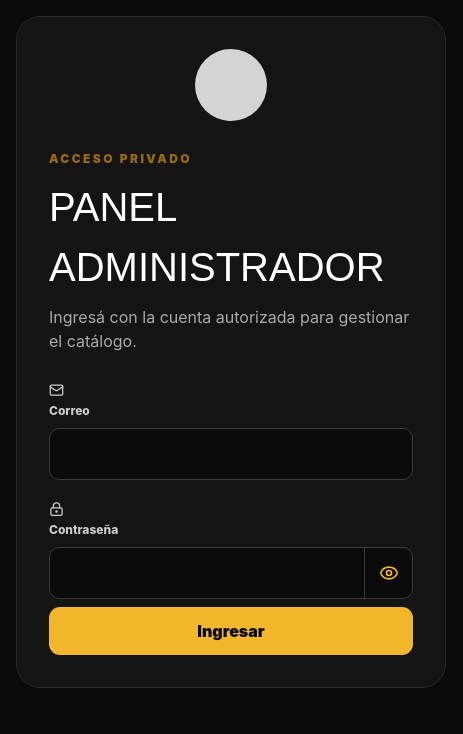
Test: Admin login errors › shows an error when the email or password is wrong
The image size is (463, 734).
Type "nadie@mail.com" into the field labelled "Correo" at (231, 454), box top-left (49, 428), bottom-right (413, 480)
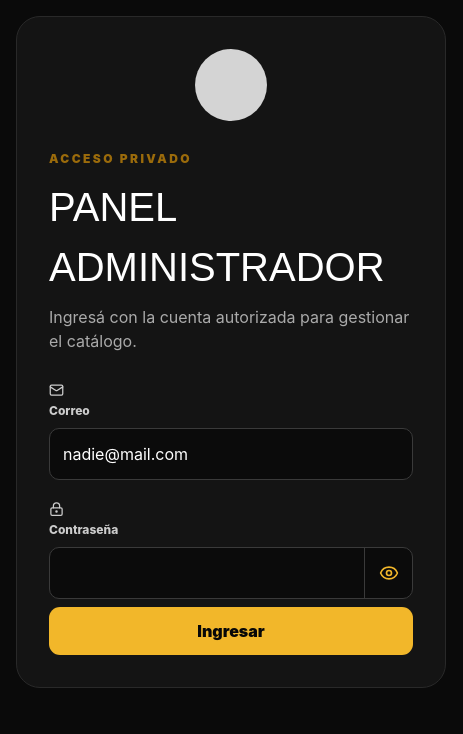
Type "incorrecta" into the password field labelled "Contraseña" at (207, 573), box top-left (50, 548), bottom-right (364, 598)
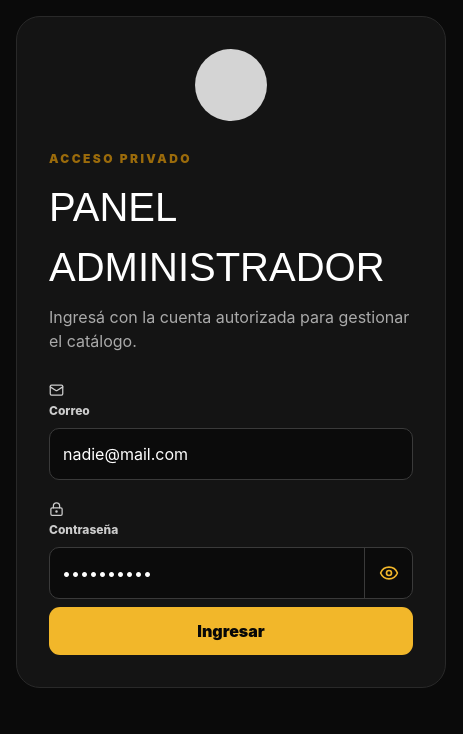
Submit the form named "ingresar"
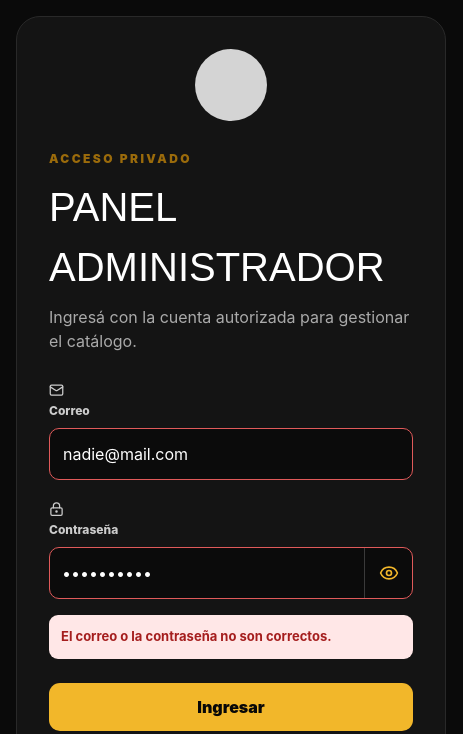
Result: the message reads "El correo o la contraseña no son correctos." at top-left (61, 628), bottom-right (332, 644)
